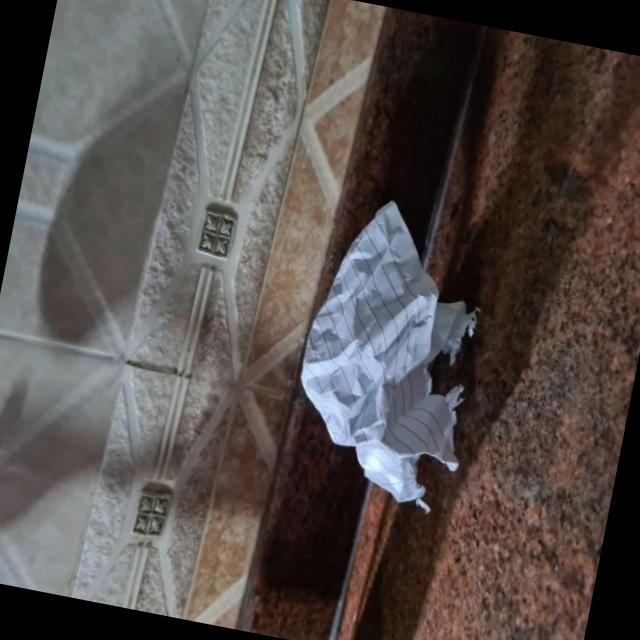cardboard paper: (299, 204, 472, 510)
